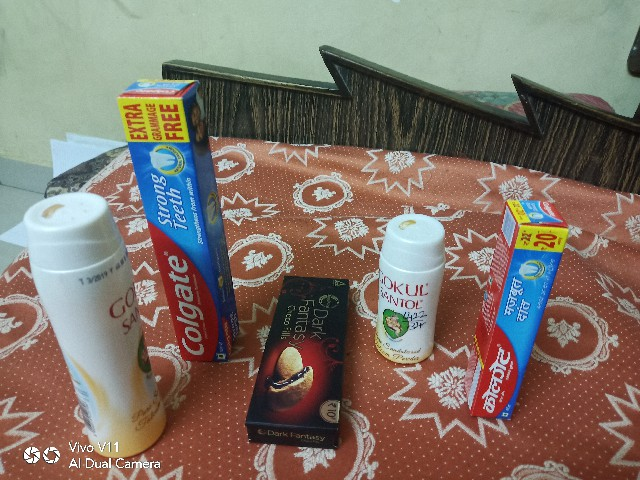colgatetoothpaste big: (120, 54, 244, 392)
colgatetoothpaste small: (468, 184, 569, 448)
darkfantasy small: (241, 249, 359, 446)
gokulsantol big: (9, 178, 164, 455)
gokulsantol small: (371, 198, 448, 375)
